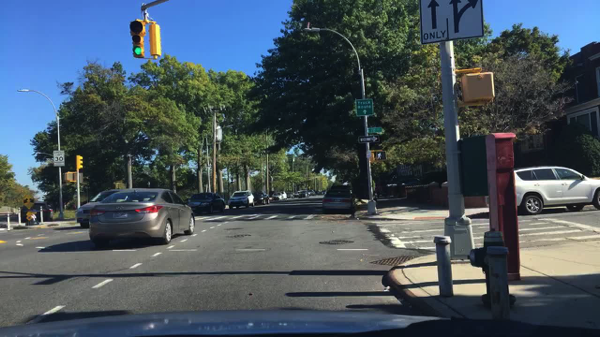car: (89, 188, 195, 246), (513, 165, 599, 213), (75, 190, 121, 226), (187, 193, 226, 216), (322, 190, 354, 213), (21, 202, 52, 220), (228, 191, 256, 209), (255, 193, 268, 205), (329, 185, 352, 191), (298, 191, 310, 197), (272, 194, 282, 201), (289, 192, 294, 198), (310, 190, 316, 195), (282, 193, 286, 199)
traffic light: (462, 73, 493, 103), (128, 20, 146, 58), (148, 23, 160, 58), (375, 151, 387, 161), (75, 156, 83, 169), (63, 173, 73, 181), (369, 153, 374, 162)
traffic sign: (419, 1, 482, 44), (355, 100, 372, 116), (22, 195, 35, 209), (53, 151, 65, 166), (358, 136, 379, 142), (368, 128, 382, 133)
